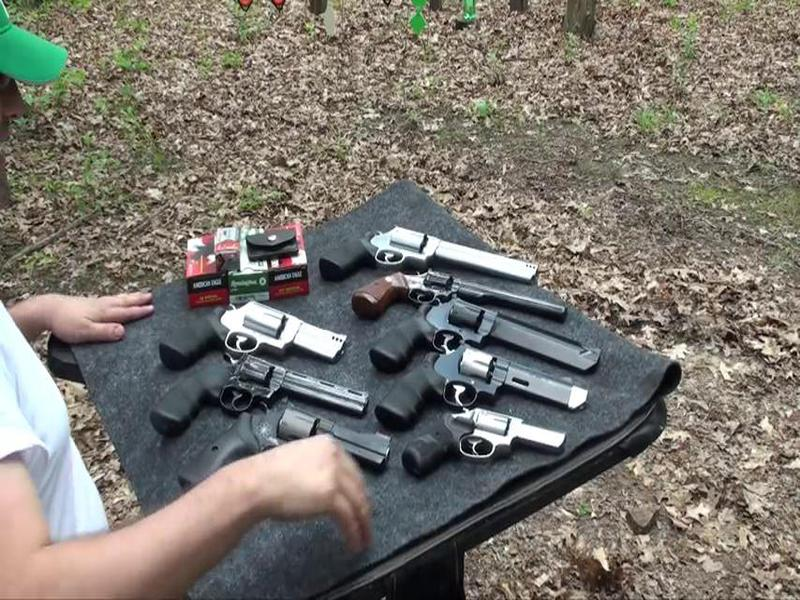Revolver: (177, 402, 389, 485)
